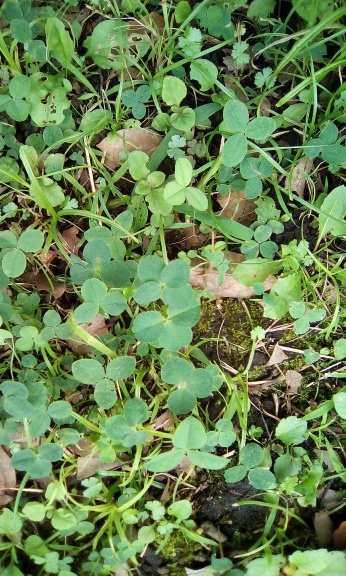4leaf: (132, 254, 196, 309)
